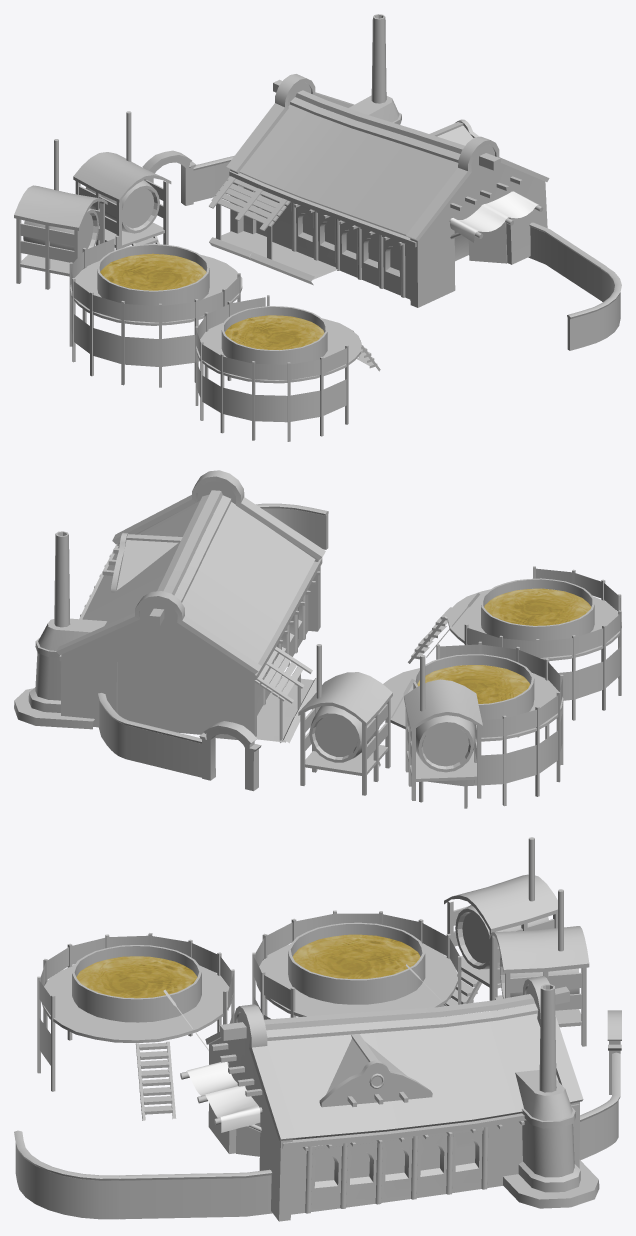
The model's file is jam.gltf.
The picture shows the model from 3 angles, top to bottom: view 1: azimuth 30°, elevation 25°; view 2: azimuth 150°, elevation 25°; view 3: azimuth 270°, elevation 25°; orthographic projection. The views are drawn at different scales.
Visible parts, largest first — view 1: _lod0; view 2: _lod0; view 3: _lod0.
Boxes of the visible parts, x1=… form: _lod0: x1=14, y1=14, x2=621, y2=441; _lod0: x1=14, y1=470, x2=621, y2=808; _lod0: x1=14, y1=837, x2=621, y2=1221.
Size of what is drawn, in the model's own units: 3.72 by 1.64 by 3.67.
